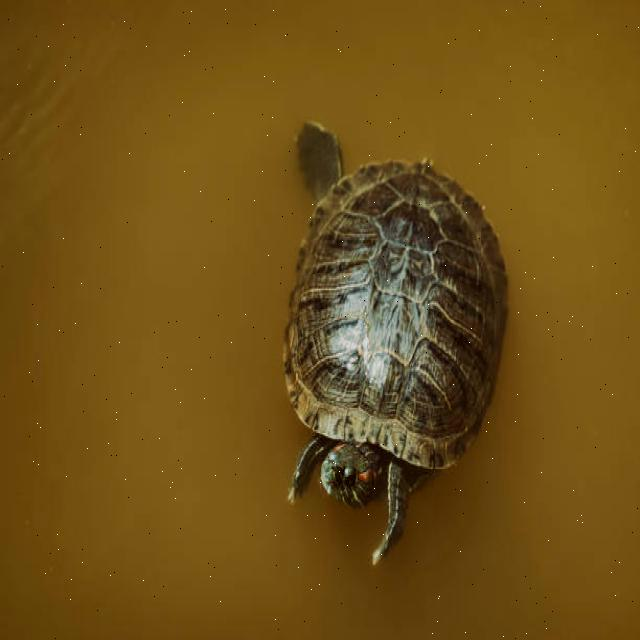tortoise: (290, 122, 502, 562)
